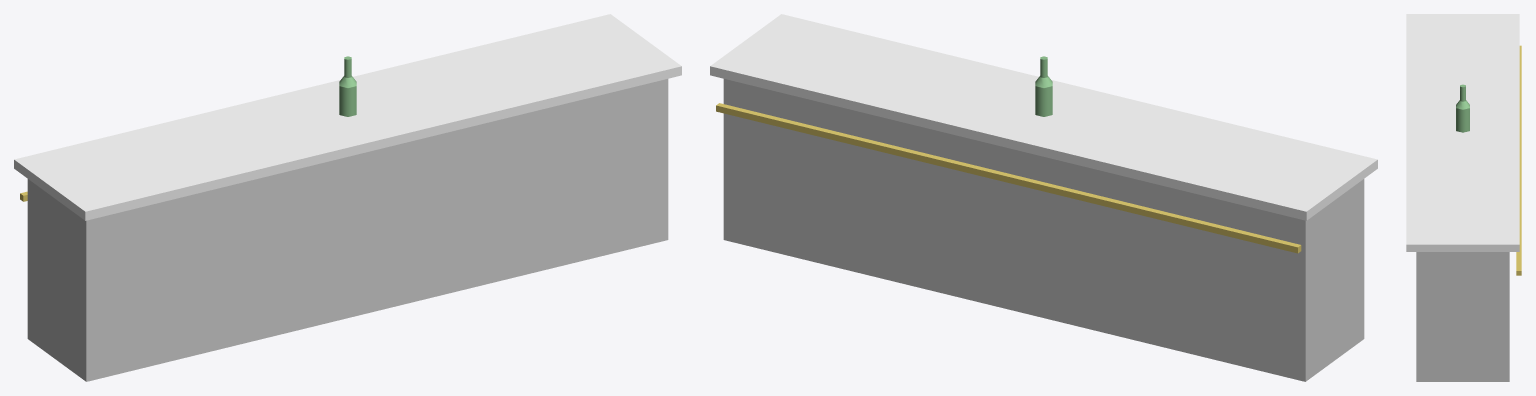
File: bar_counter.glb
3 views of the same model, side by side, from view 1: azimuth 30°, elevation 25°; view 2: azimuth 150°, elevation 25°; view 3: azimuth 270°, elevation 25° (orthographic). The views are drawn at different scales.
Parts seen in each view (by area): view 1: Bar; view 2: Bar; view 3: Bar.
Boxes of the visible parts, x1=… form: Bar: x1=14, y1=14, x2=681, y2=381; Bar: x1=710, y1=14, x2=1377, y2=381; Bar: x1=1406, y1=14, x2=1521, y2=381.
Bounding box in the file's own units: 4.1 × 1.52 × 0.865.
